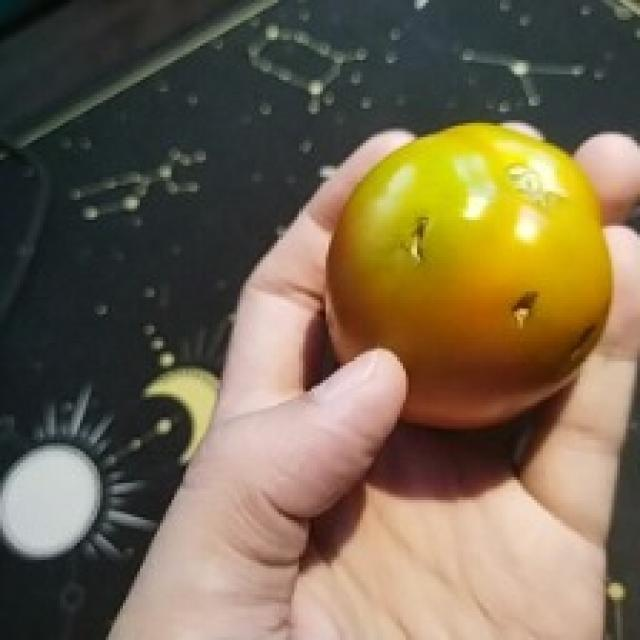Rotten Tomato: (300, 113, 629, 450)
